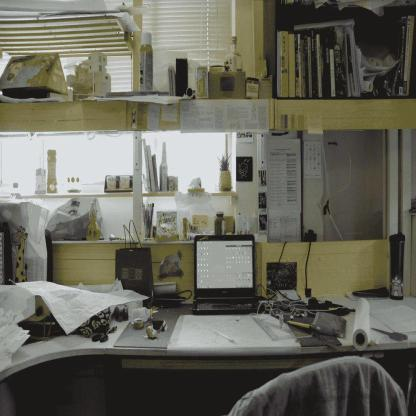board: (190, 236, 261, 316), (138, 31, 154, 92), (225, 34, 244, 74), (47, 150, 59, 193), (160, 140, 168, 191), (34, 168, 47, 195), (9, 181, 22, 200)
